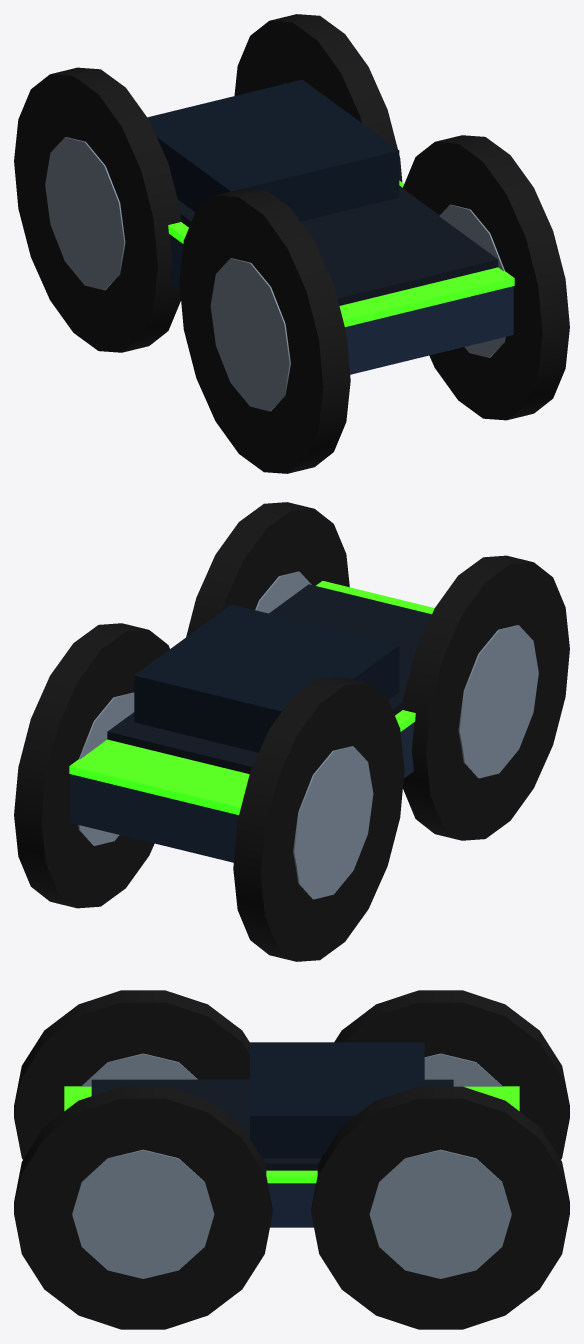
File: tc_run.glb
3 renders of one model, top to bottom at view 1: azimuth 30°, elevation 25°; view 2: azimuth 150°, elevation 25°; view 3: azimuth 270°, elevation 25°, orthographic. The views are drawn at different scales.
Visible parts, largest first — view 1: TC Runner; view 2: TC Runner; view 3: TC Runner.
Boxes of the visible parts, <box> form: TC Runner: <box>14,14,569,473</box>; TC Runner: <box>14,502,569,961</box>; TC Runner: <box>14,990,569,1329</box>.
Bounding box in the file's own units: 2 × 1.97 × 4.3.
